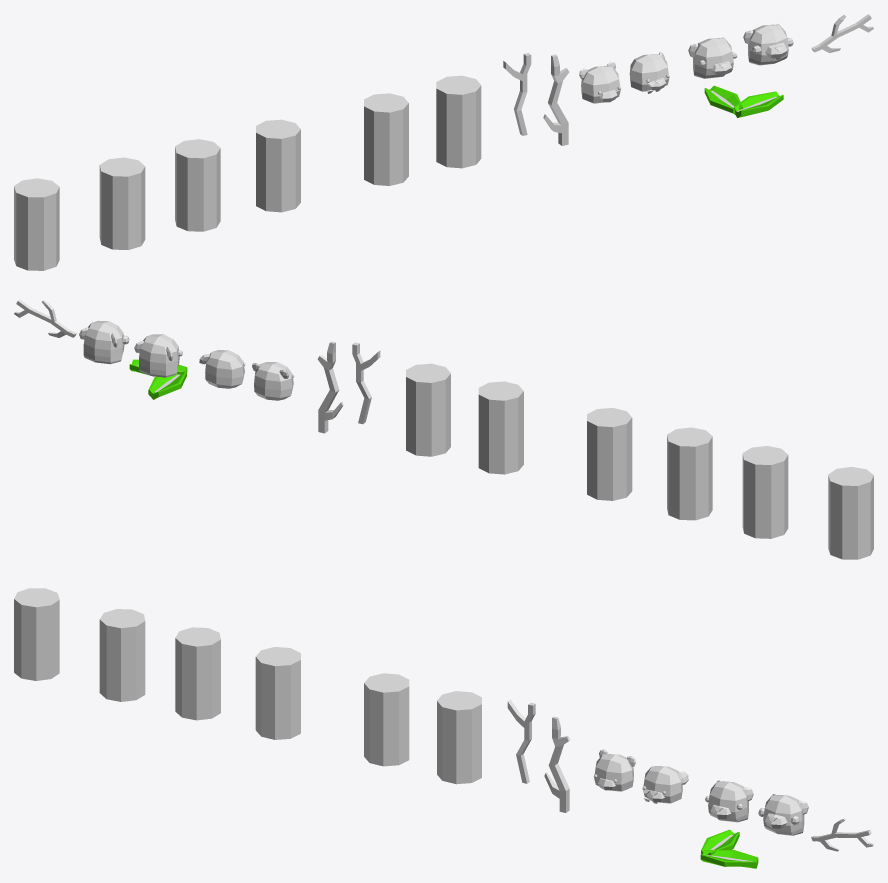
Rendered from semueve.fbx.
The picture shows the model from 3 angles, top to bottom: view 1: azimuth 30°, elevation 25°; view 2: azimuth 150°, elevation 25°; view 3: azimuth 330°, elevation 25°; orthographic projection.
Visible parts, largest first — view 1: Cylinder.005, Cylinder.004, Cylinder.003, Cylinder, Cylinder.002, Cylinder.001, Cube.024, Cube.018, Cube, Cube.006, Cube.014, Cube.013 (+3 smaller); view 2: Cylinder.005, Cylinder.004, Cylinder.003, Cylinder.001, Cylinder.002, Cylinder, Cube.024, Cube.018, Cube.006, Cube, Cube.014, Cube.013 (+2 smaller); view 3: Cylinder.005, Cylinder.001, Cylinder.004, Cylinder.003, Cylinder.002, Cylinder, Cube.024, Cube.014, Cube.018, Cube, Cube.006, Cube.013 (+3 smaller).
Boxes of the visible parts, <box> form: Cylinder.005: <box>99,157,145,249</box>; Cylinder.004: <box>175,139,220,231</box>; Cylinder.003: <box>14,178,59,270</box>; Cylinder: <box>436,75,481,168</box>; Cylinder.002: <box>256,119,300,212</box>; Cylinder.001: <box>364,93,408,185</box>; Cube.024: <box>693,38,733,78</box>; Cube.018: <box>748,24,788,65</box>; Cube: <box>581,66,620,103</box>; Cube.006: <box>629,54,669,91</box>; Cube.014: <box>543,54,569,145</box>; Cube.013: <box>503,53,531,135</box>; Cylinder.005: <box>742,446,788,538</box>; Cylinder.004: <box>667,427,712,520</box>; Cylinder.003: <box>828,466,873,559</box>; Cylinder.001: <box>478,381,523,474</box>; Cylinder.002: <box>587,408,632,500</box>; Cylinder: <box>406,363,450,456</box>; Cube.024: <box>139,334,179,377</box>; Cube.018: <box>83,320,124,364</box>; Cube.006: <box>205,350,244,388</box>; Cube: <box>254,362,293,400</box>; Cube.014: <box>317,341,343,433</box>; Cube.013: <box>352,342,380,424</box>; Cylinder.005: <box>99,609,145,701</box>; Cylinder.001: <box>364,673,409,766</box>; Cylinder.004: <box>175,627,220,720</box>; Cylinder.003: <box>14,588,59,680</box>; Cylinder.002: <box>255,647,300,739</box>; Cylinder: <box>437,691,481,784</box>; Cube.024: <box>708,781,748,822</box>; Cube.014: <box>544,716,570,812</box>; Cube.018: <box>763,795,804,835</box>; Cube: <box>594,754,633,791</box>; Cube.006: <box>643,766,682,803</box>; Cube.013: <box>507,699,535,783</box>.
Bounding box in the file's own units: 4257 × 460 × 337.
